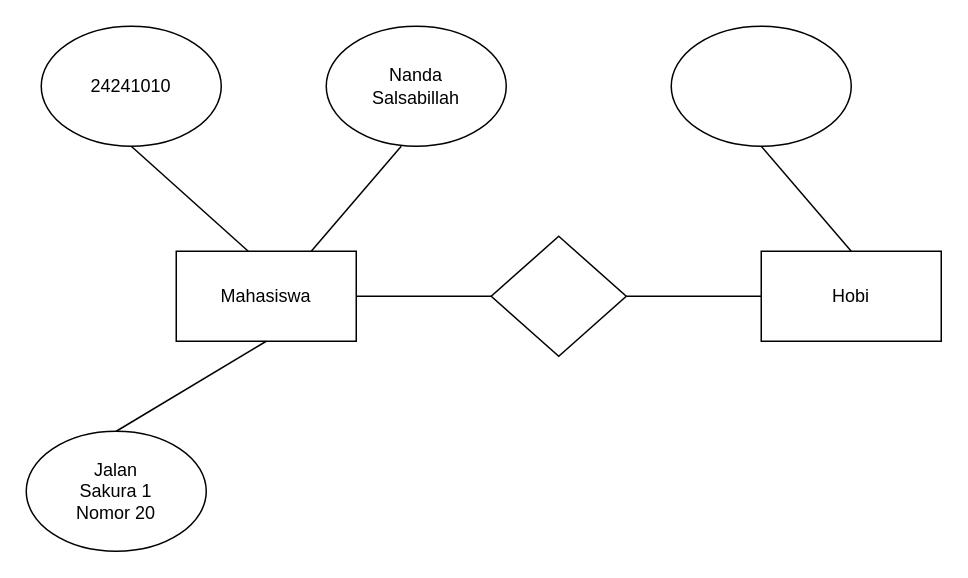
Some shapes in this 968 by 578 pixel diagram are drawn without their labels. The box of each missing label's shape, as (x1, y1, x2, y2) in pixels:
Membaca novel dan menonton film hantu: (670, 25, 851, 146)
Memiliki: (490, 235, 626, 356)
